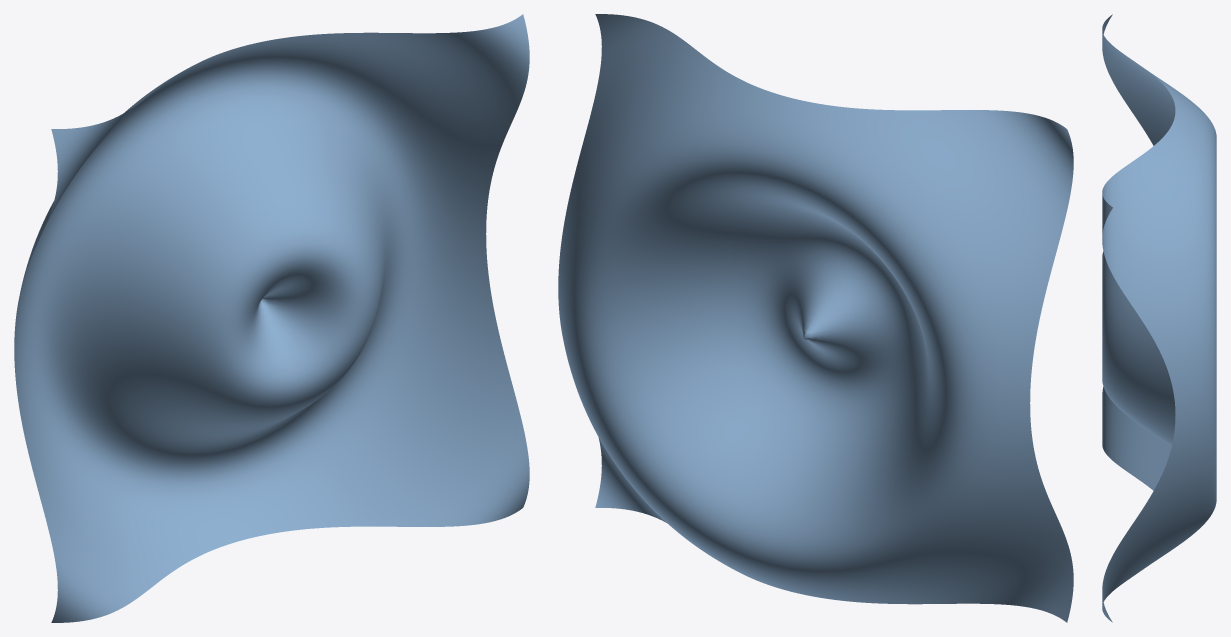
File: ripple.obj
3 views of the same model, side by side, from view 1: azimuth 30°, elevation 25°; view 2: azimuth 150°, elevation 25°; view 3: azimuth 270°, elevation 25° (orthographic). The views are drawn at different scales.
Parts seen in each view (by area): view 1: ripple; view 2: ripple; view 3: ripple.
Boxes of the visible parts, x1=… form: ripple: x1=14, y1=14, x2=529, y2=622; ripple: x1=558, y1=14, x2=1073, y2=622; ripple: x1=1102, y1=14, x2=1216, y2=622.
Size of the model in its own units: 2 by 2 by 0.5.
